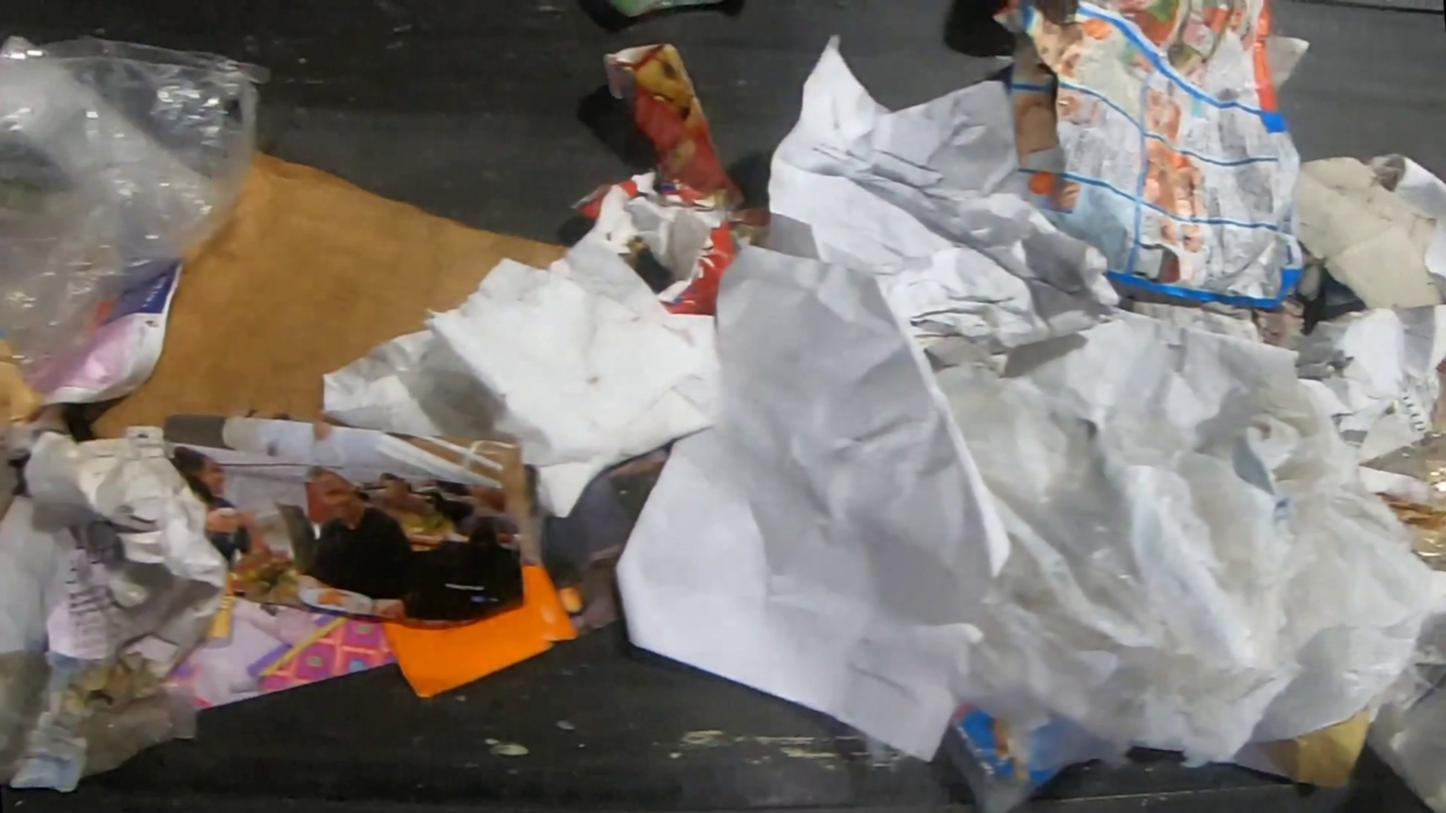cardboard: (86, 150, 572, 439), (568, 44, 769, 317), (1285, 150, 1446, 381), (376, 563, 588, 700), (0, 335, 43, 431)
plastic: (925, 333, 1262, 775), (1115, 371, 1446, 756), (0, 33, 275, 397), (0, 647, 203, 787), (943, 705, 1068, 813), (1356, 431, 1446, 493), (1410, 528, 1446, 573)
